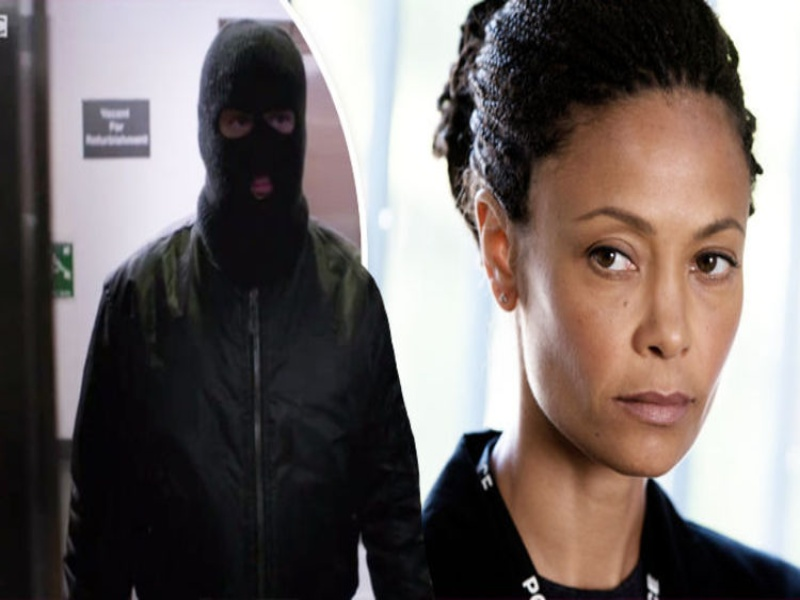balaclava: (197, 20, 310, 282)
person: (424, 1, 800, 600), (66, 17, 437, 600)
